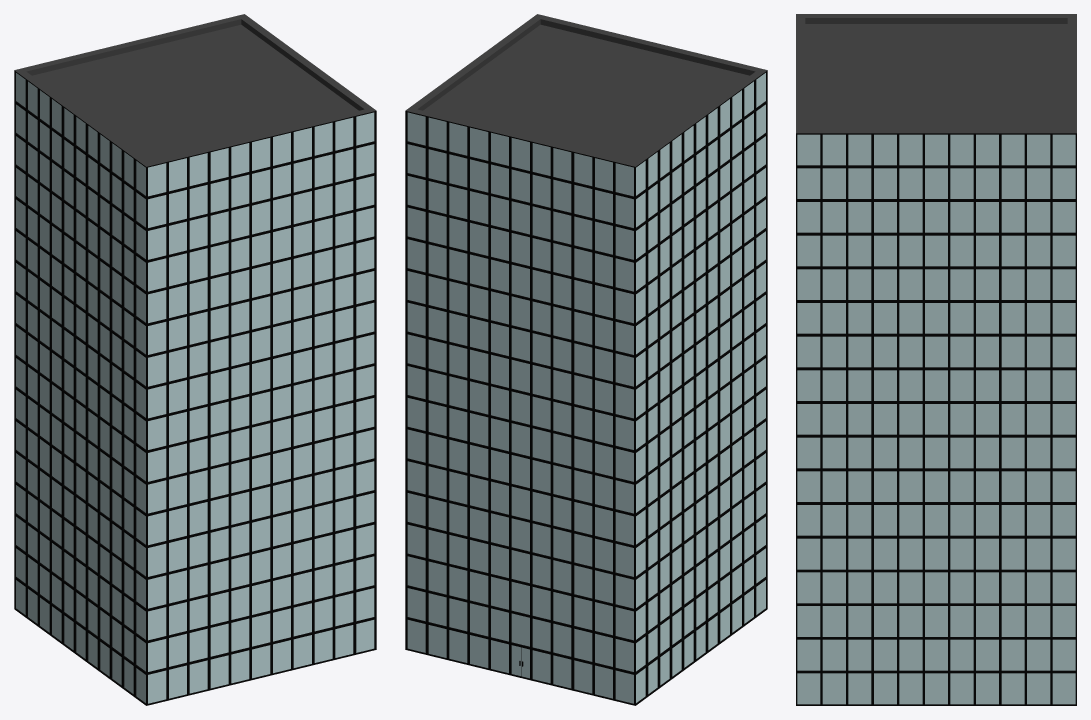
The model's file is Building1.glb.
The picture shows the model from 3 angles, left to right: view 1: azimuth 30°, elevation 25°; view 2: azimuth 150°, elevation 25°; view 3: azimuth 270°, elevation 25°; orthographic projection. The views are drawn at different scales.
Visible parts, largest first — view 1: Cube.001; view 2: Cube.001; view 3: Cube.001.
Part boxes in pixels (left/top/right/bottom): Cube.001: left=14, top=14, right=376, bottom=705; Cube.001: left=405, top=14, right=767, bottom=705; Cube.001: left=796, top=14, right=1076, bottom=705.
Size of the model in its own units: 4.03 by 9 by 4.
